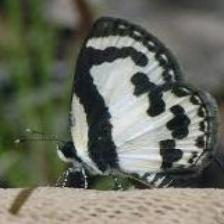butterfly: (58, 17, 218, 188)
